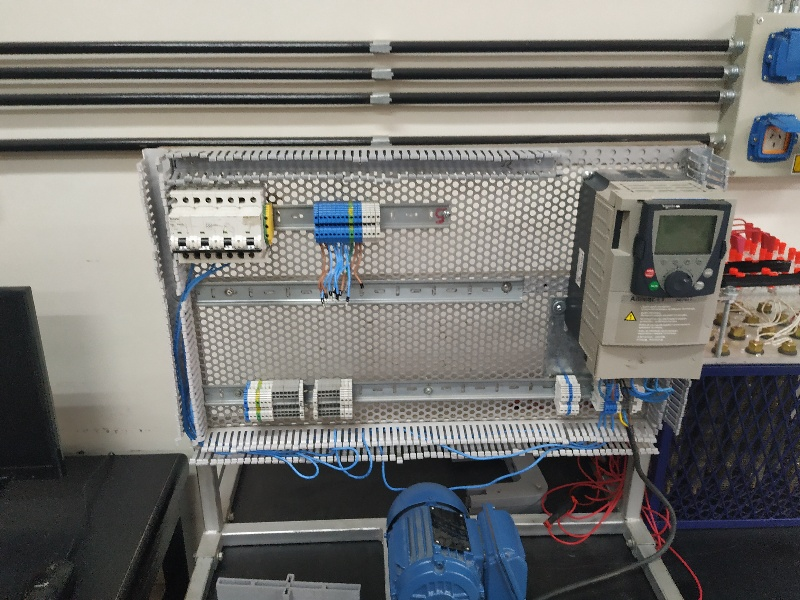Tablero 0: (147, 153, 733, 462)
